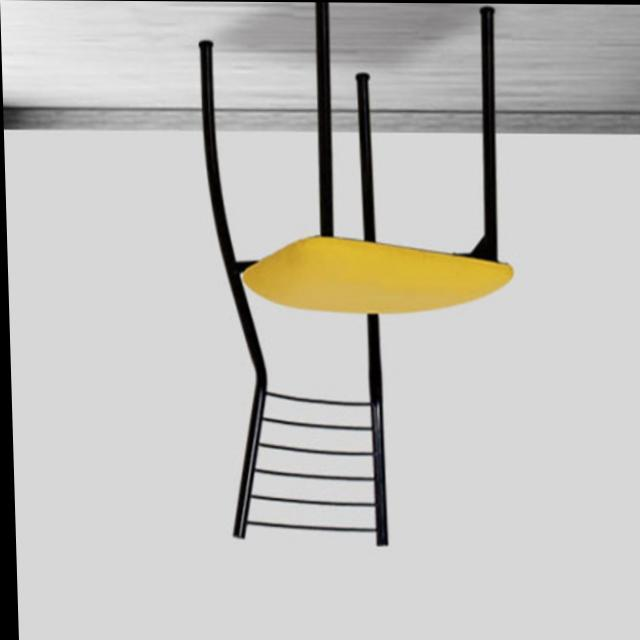Chair: (194, 1, 522, 549)
